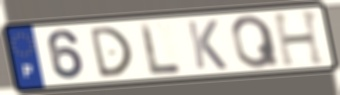6: (46, 28, 87, 82)
D: (87, 24, 135, 80)
H: (270, 8, 328, 69)
K: (184, 18, 230, 71)
L: (137, 21, 184, 78)
Q: (230, 13, 283, 70)
